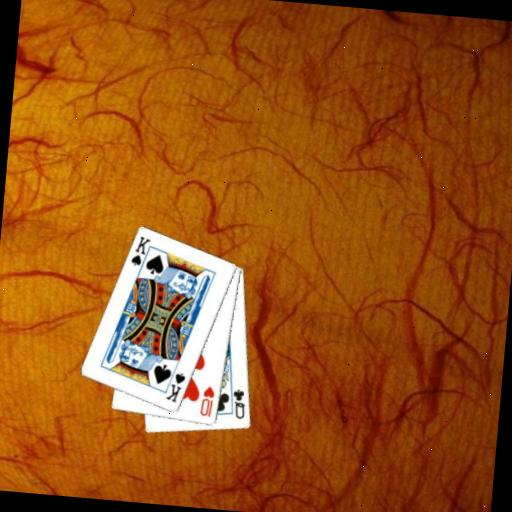10H: (197, 383, 217, 419)
KS: (128, 233, 155, 274), (163, 369, 188, 405)
QC: (228, 386, 249, 421)
